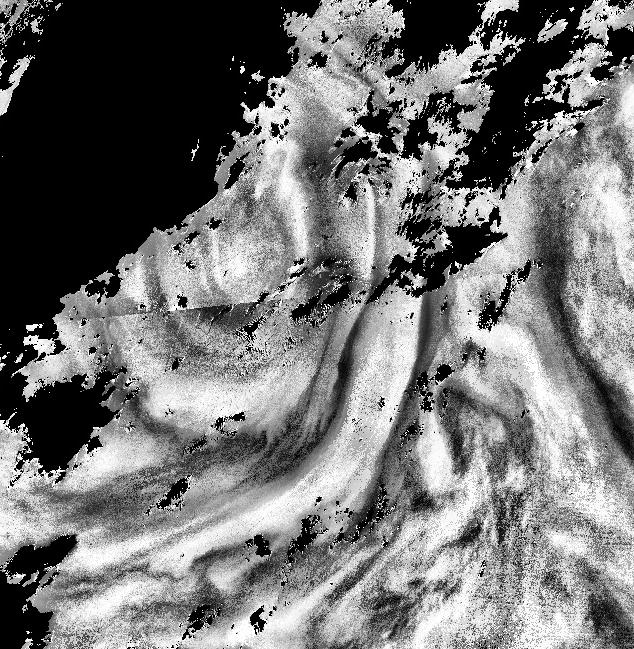CE: (99, 41, 436, 460)
